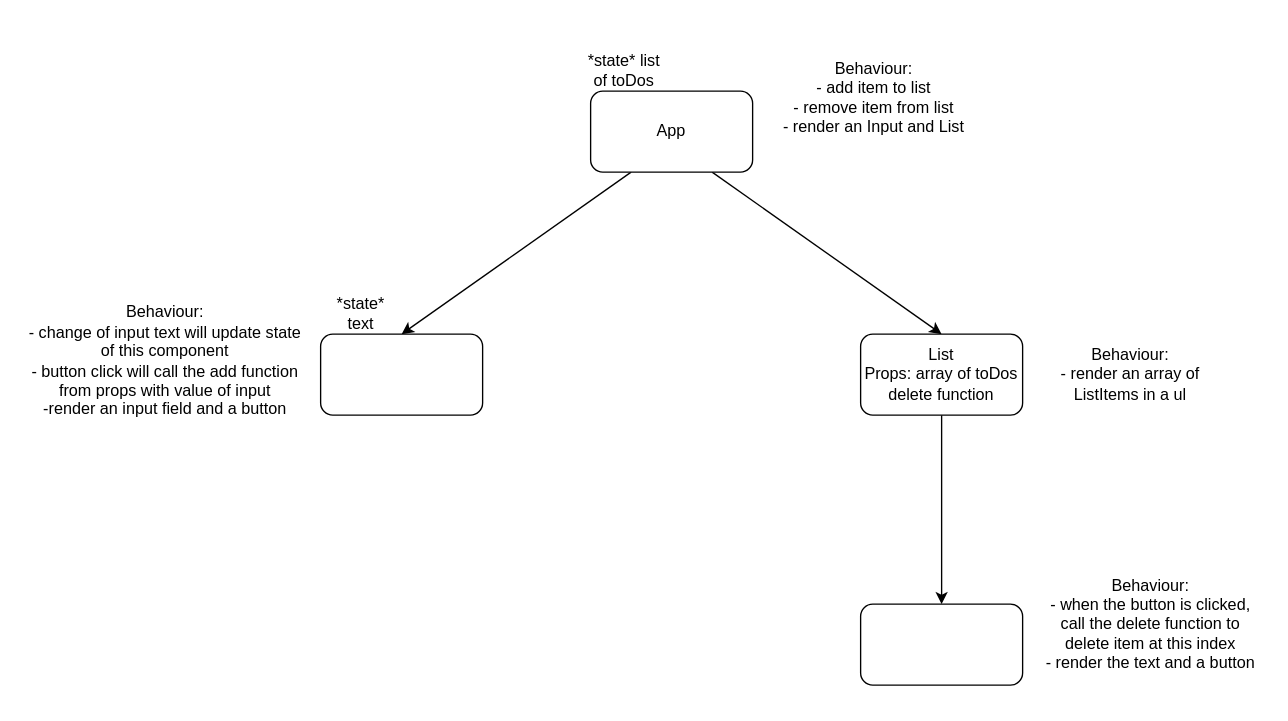
Image size: 1288x721. Some labels were removed from this diagram. The centre of each missing label's shape, as x and y in pixels:
Input Props: add function: [401,374]
ListItem Props: text delete function: [941,644]
